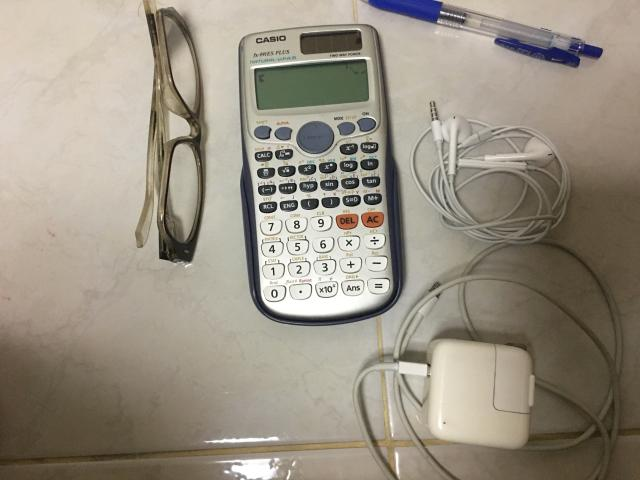Glasses: (135, 0, 204, 262)
Pen: (369, 0, 602, 68)
wire: (352, 239, 622, 479), (410, 101, 570, 244)
